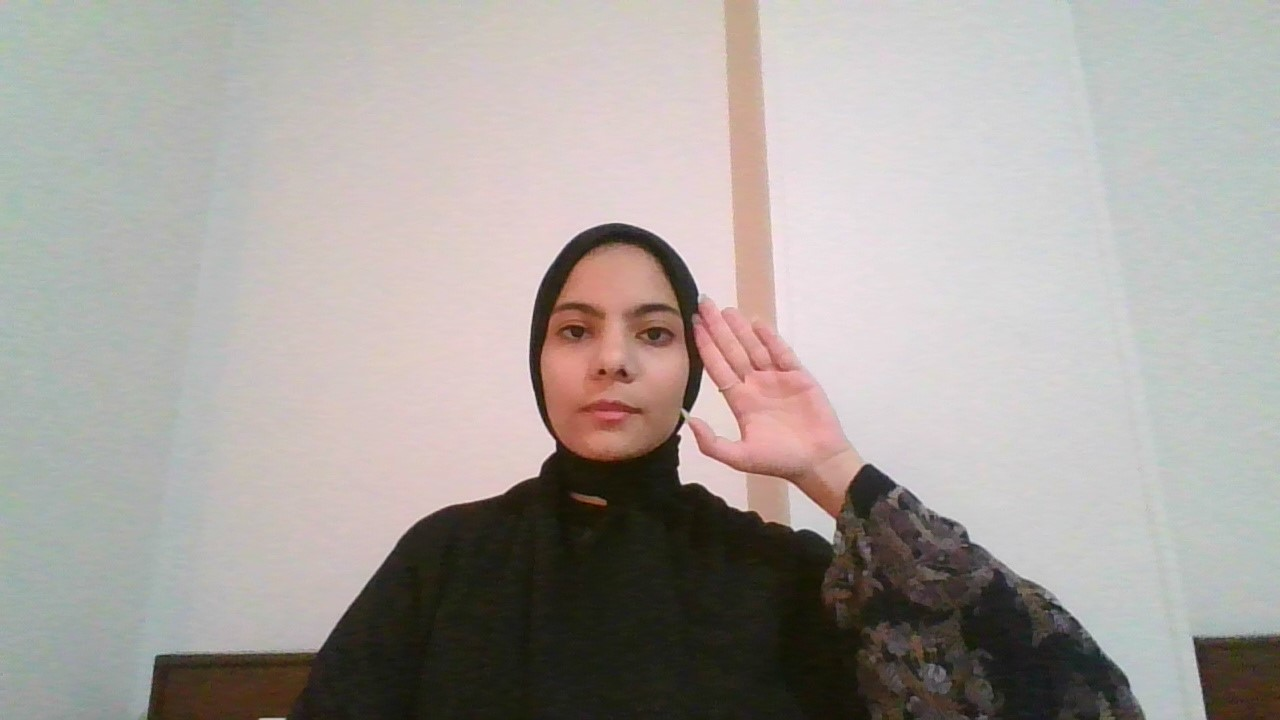hello: (682, 284, 853, 512)
